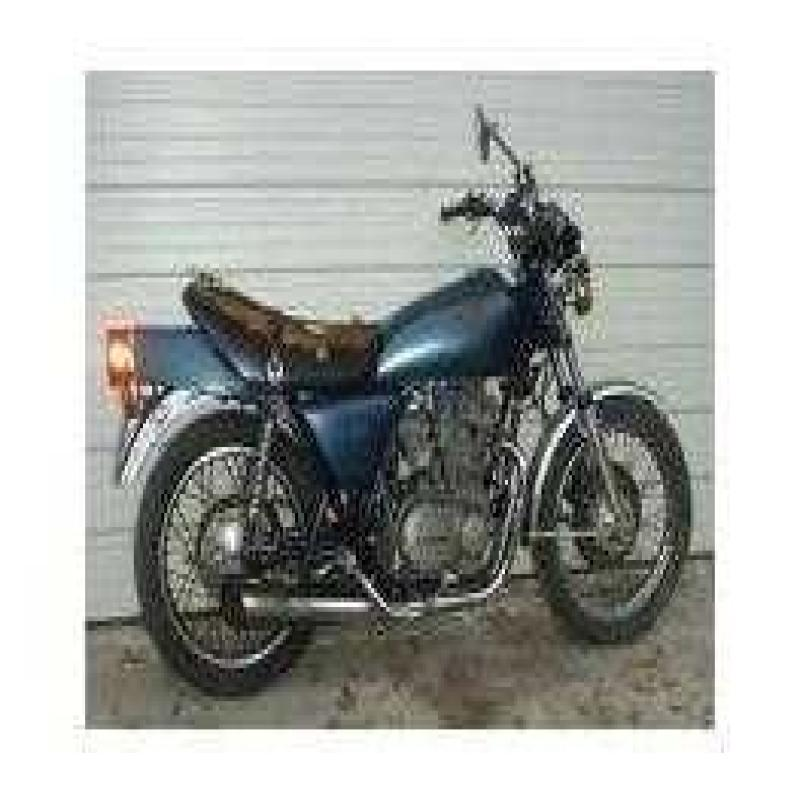bike: (95, 86, 687, 658)
